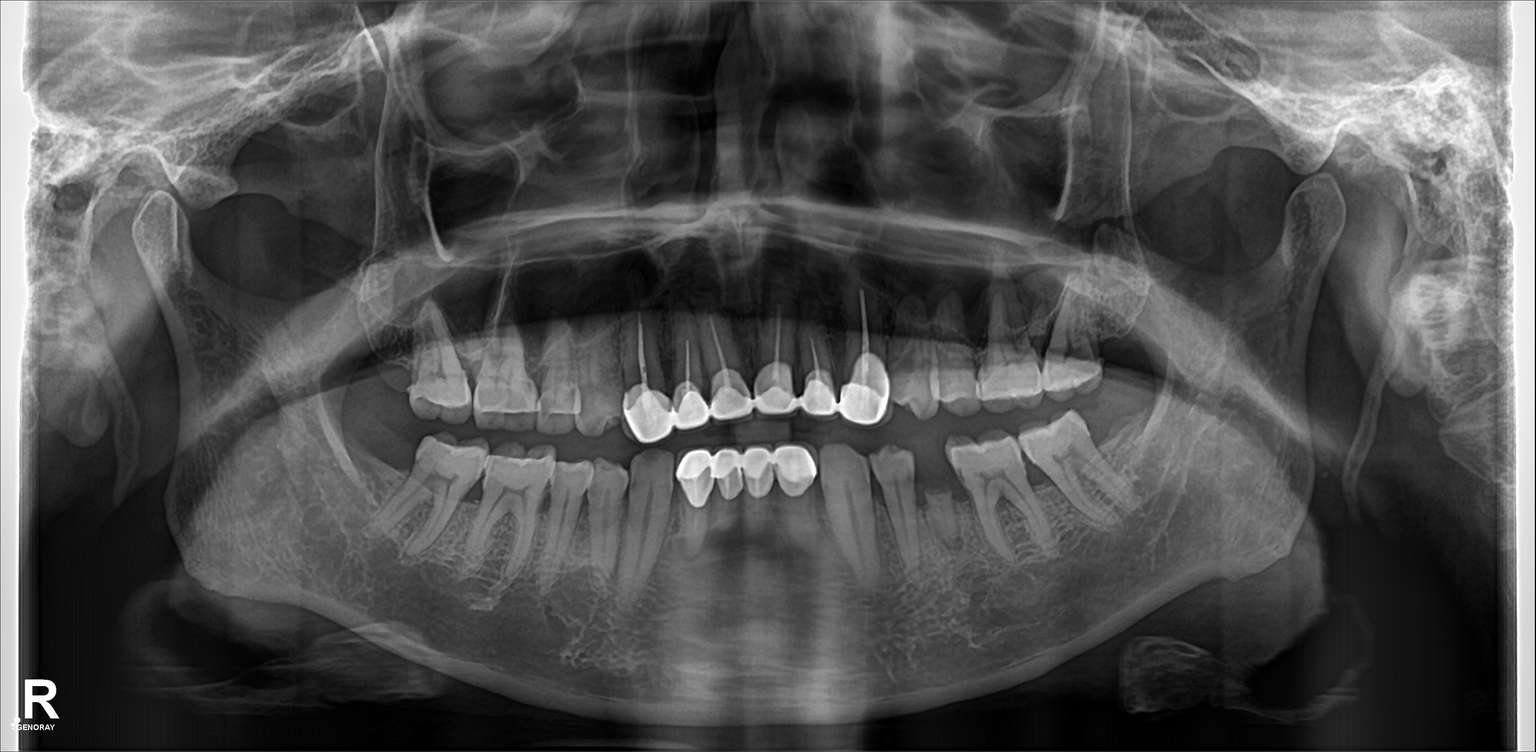Endodontically Treated Tooth: (791, 303, 836, 417), (626, 322, 664, 441), (849, 294, 886, 411), (676, 462, 715, 567), (663, 322, 699, 434), (778, 454, 815, 554), (708, 318, 745, 414), (747, 456, 776, 557), (723, 462, 748, 559), (765, 311, 784, 426)
Missing Tooth: (1095, 292, 1144, 389), (359, 426, 405, 527), (1106, 402, 1162, 483), (354, 320, 413, 396)
Retained Root: (916, 452, 959, 547)
